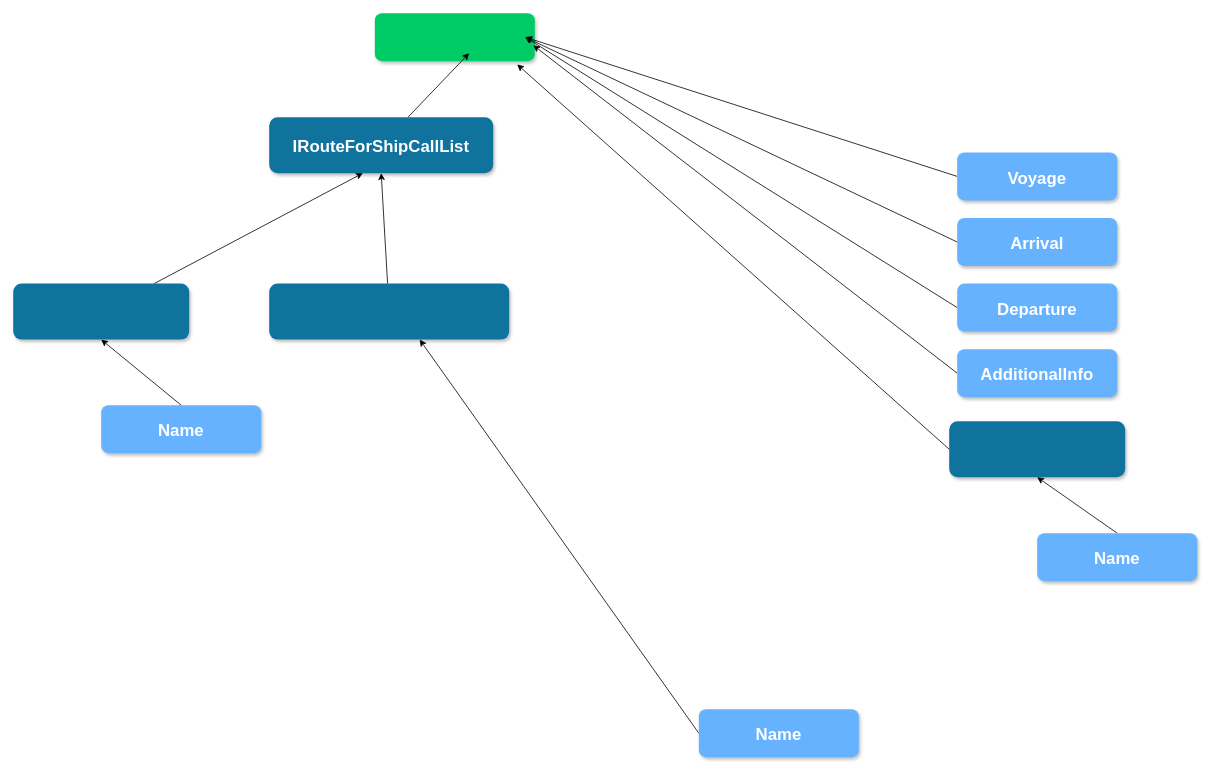
Some shapes in this 1210 by 770 pixel diagram are drawn without their labels. Each missing label, with the centre of its shape:
ILine: the point at 102,312
IPort: the point at 1038,450
IShipCallForList: the point at 455,38
IVesselForShipCallList: the point at 390,312
